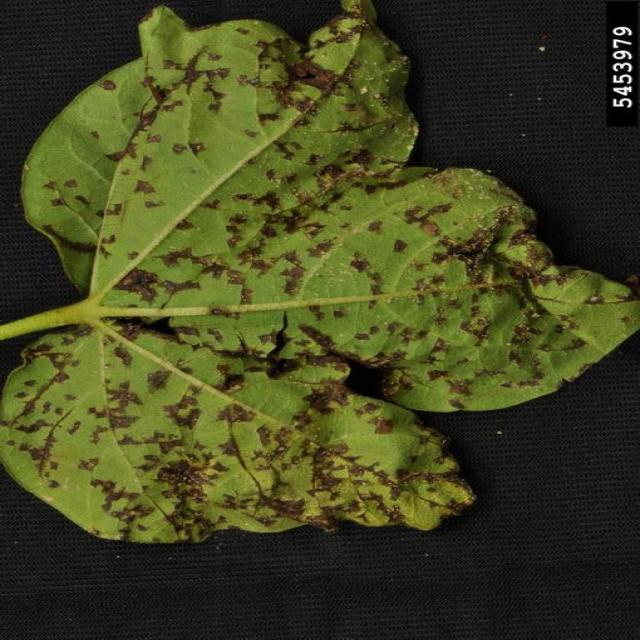Bacterial Blight: (111, 80, 434, 512)
